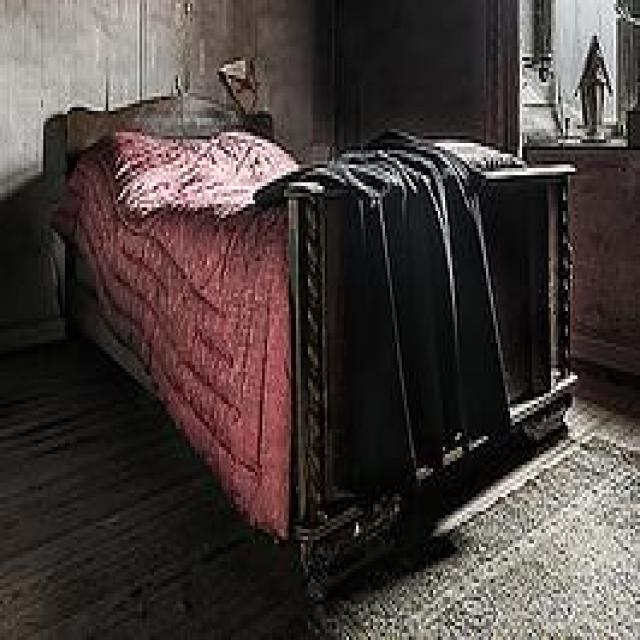bed: (41, 85, 577, 600)
